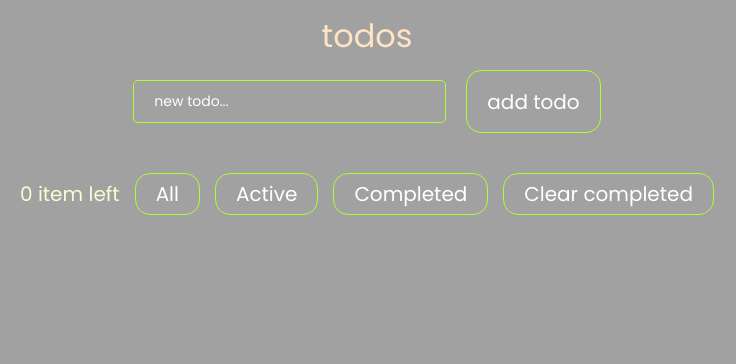
clears completed todos
Type "Task 1" into the field with placeholder "new todo..." at [290, 102], box x1=133 y1=80 x2=446 y2=123
Click the button "add todo" at [533, 102], box x1=466 y1=70 x2=601 y2=133
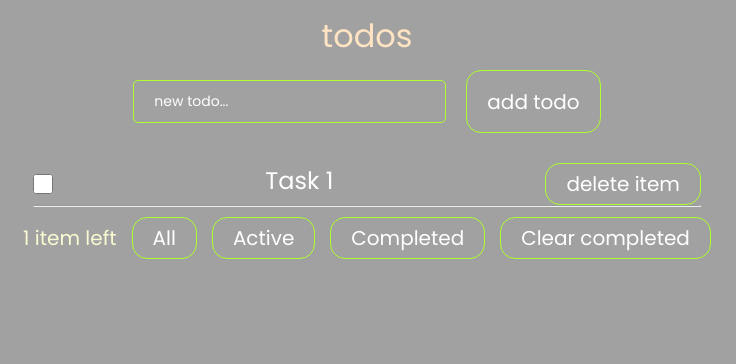
Type "Task 2" into the field with placeholder "new todo..." at [290, 102], box x1=133 y1=80 x2=446 y2=123
Click the button "add todo" at [533, 102], box x1=466 y1=70 x2=601 y2=133
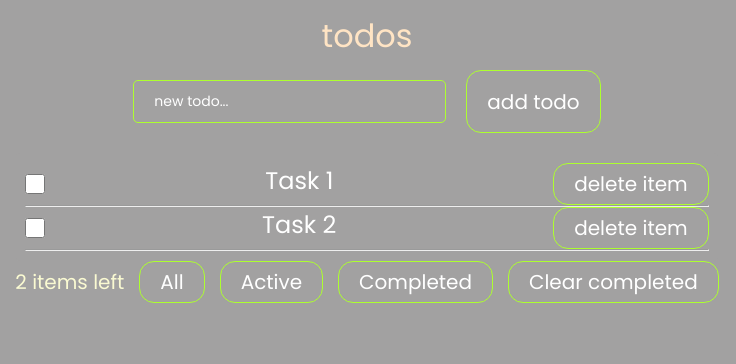
Type "Task 3" into the field with placeholder "new todo..." at [290, 102], box x1=133 y1=80 x2=446 y2=123
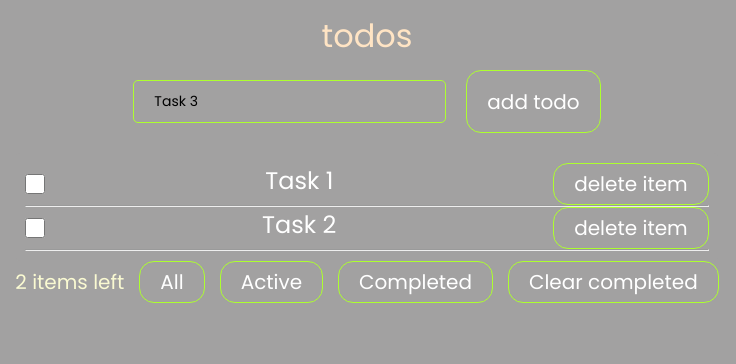
Click the button "add todo" at [533, 102], box x1=466 y1=70 x2=601 y2=133
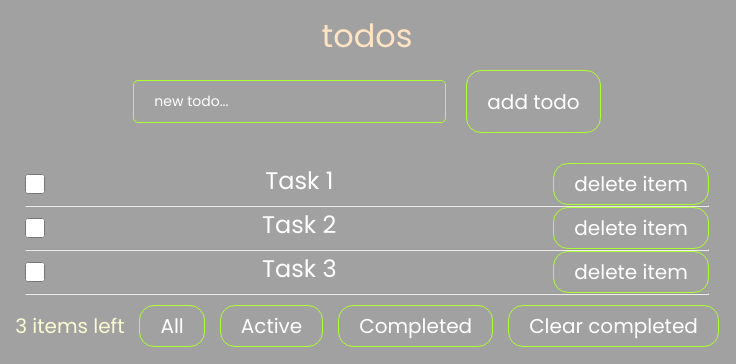
Завершаем вторую задачу
Click the checkbox in the row of "Task 2" at [35, 228], box x1=25 y1=207 x2=45 y2=249
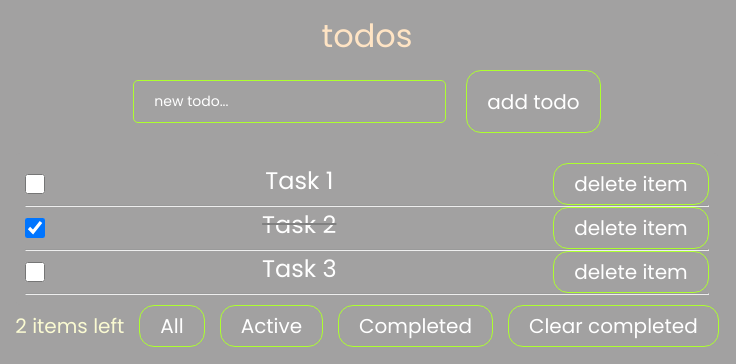
Нажимаем кнопку "Clear completed"
Click the button "Clear completed" at [613, 326], box x1=508 y1=305 x2=719 y2=347
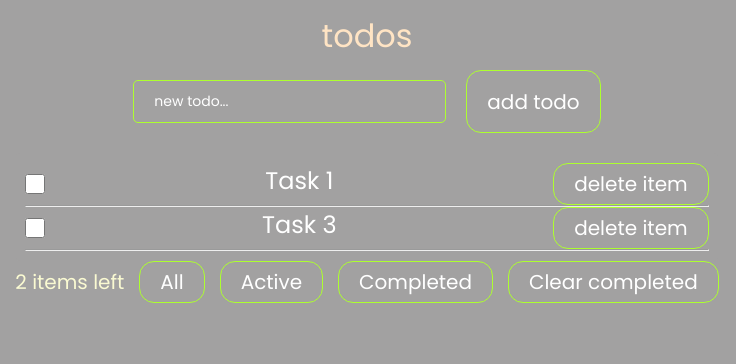
expect the text "Task 1" is shown: met, box x1=265 y1=163 x2=333 y2=205
expect the text "Task 3" is shown: met, box x1=262 y1=207 x2=336 y2=249
expect the text "Task 2" is gone: met
